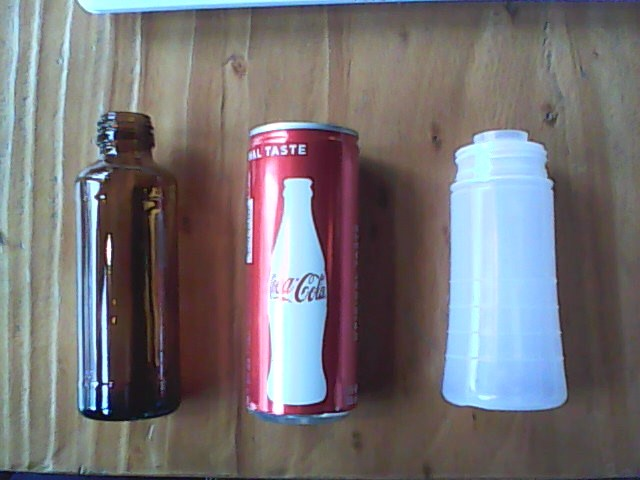Can: (240, 119, 367, 428)
Glass: (69, 107, 186, 424)
Plastic: (433, 125, 576, 414)
